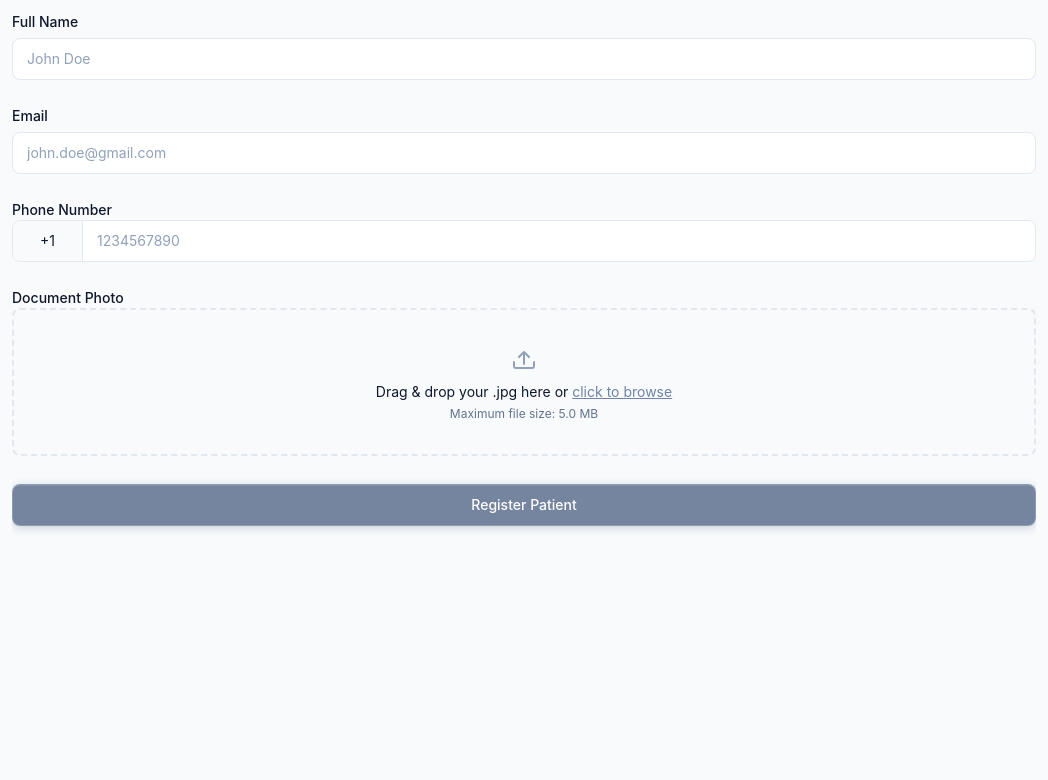
PatientForm › shows validation errors on empty submit
Click the button "Register Patient" at (524,505), box left=12, top=484, right=1036, bottom=526
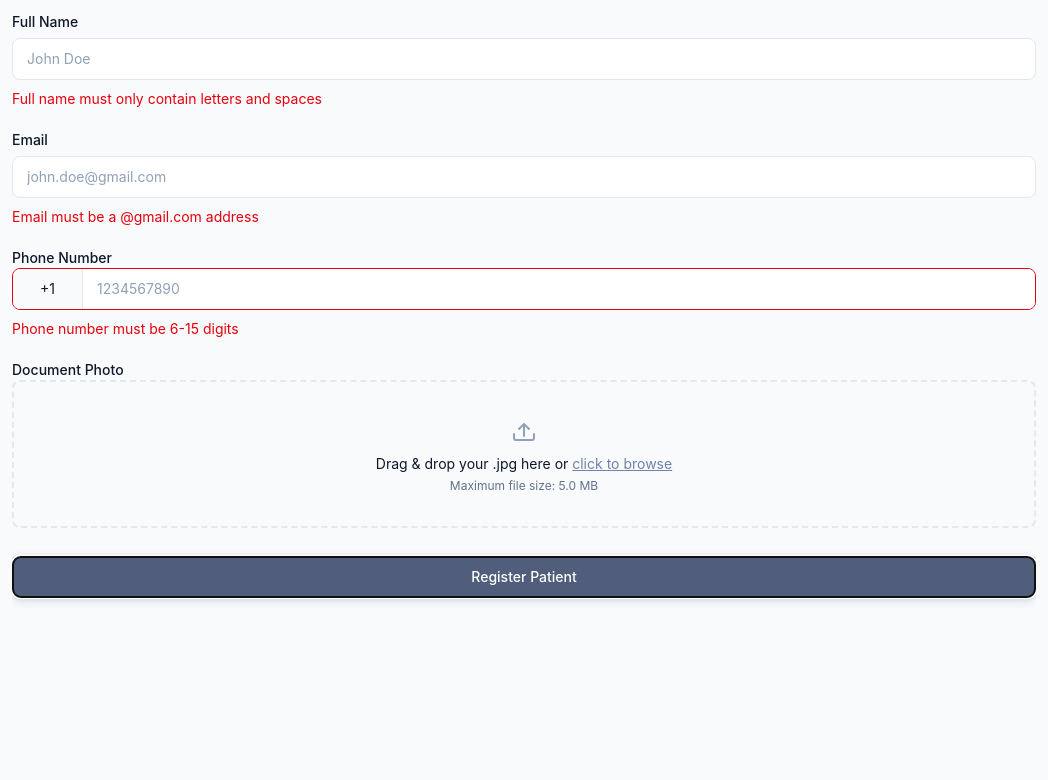
Expected: the text "Full name must only contain letters and spaces" is shown, left=12, top=90, right=322, bottom=107
